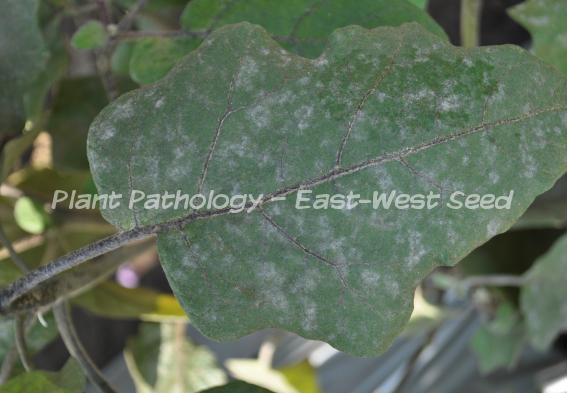Eggplant_PowderyMildew: (107, 30, 555, 331)
